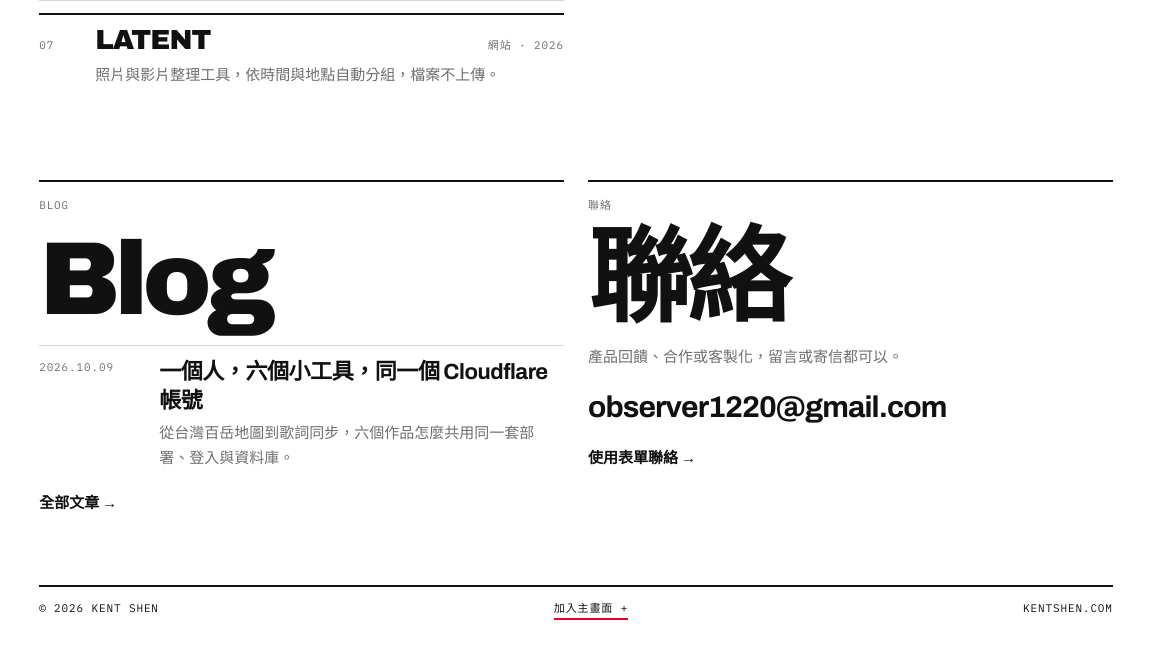
Test: add to home screen hint › shows Share > Add to Home Screen instructions on iOS
The width and height of the screenshot is (1152, 648).
(page scrolled)
Step 1. Click the button "加入主畫面 +" → (591, 609), box [554,599,628,620]
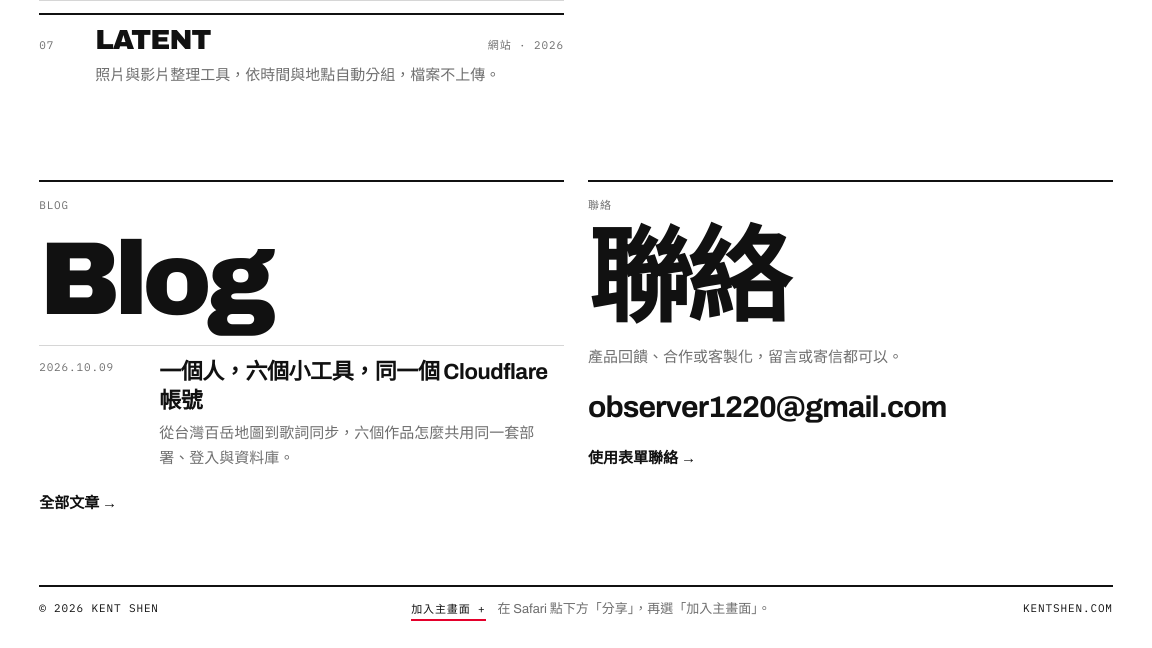
Check: the message shows "分享", box [498,602,771,616]
